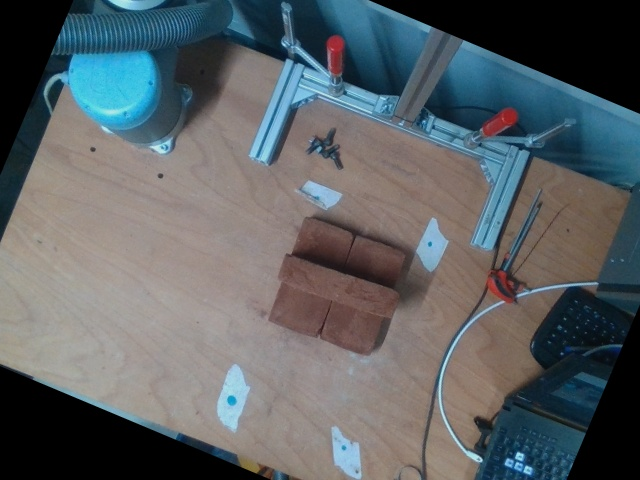brick-side: (278, 254, 400, 318)
